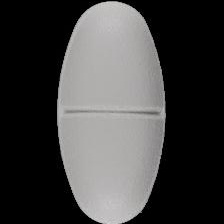53489-329: (0, 0, 224, 224)
